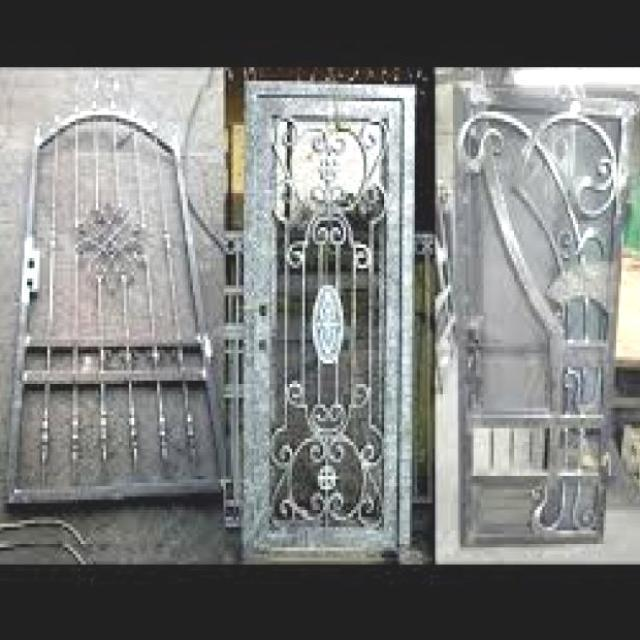door: (240, 77, 414, 561)
